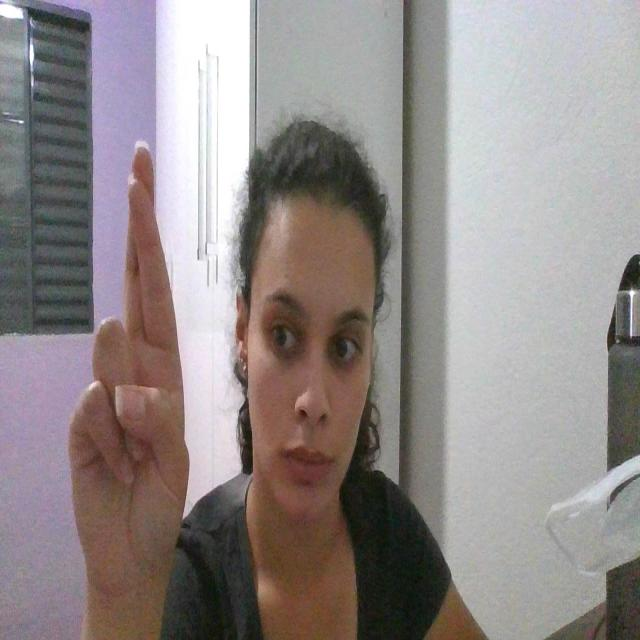R: (66, 132, 193, 578)
